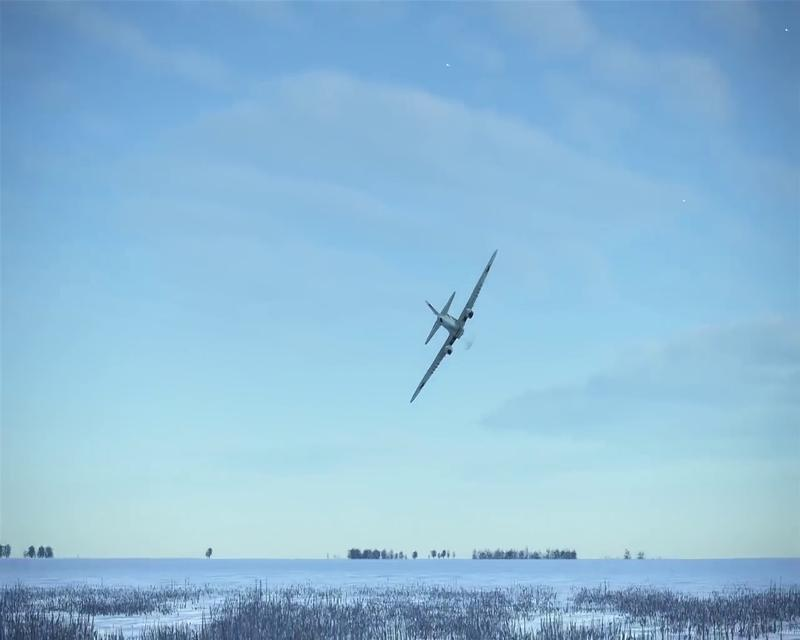UAV: (410, 248, 499, 402)
